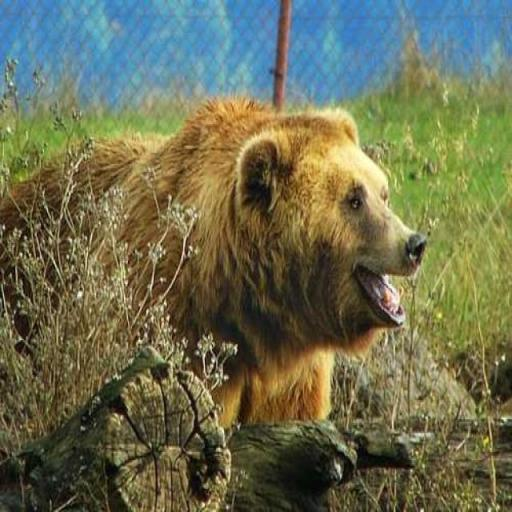Bear: (0, 93, 427, 437)
